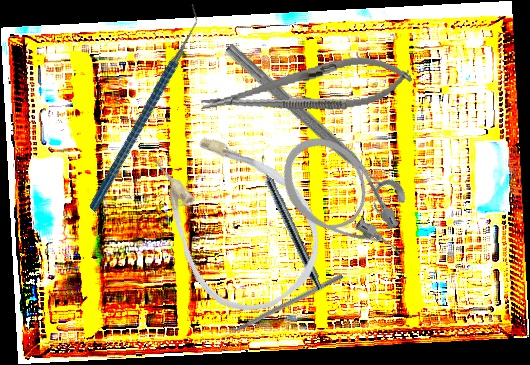Cannula: (125, 101, 345, 334), (265, 120, 421, 287)
Chopper: (33, 2, 253, 213)
Fixation Ring: (211, 37, 411, 224)
Handpiece: (253, 153, 327, 292)
Hook Surgical: (215, 272, 344, 343)
Needle Holder: (197, 48, 415, 130)
